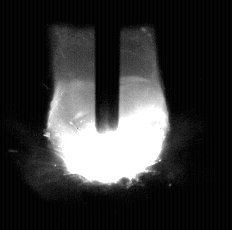arame: (97, 0, 120, 133)
poca: (47, 0, 167, 230)
